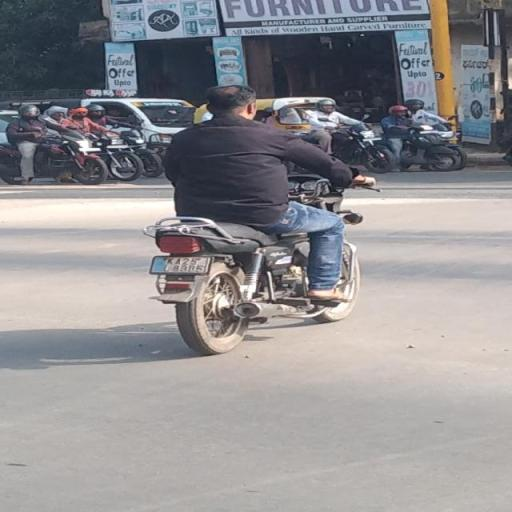bike: (142, 80, 384, 356)
numberplate: (150, 254, 212, 276)
withouthelmet: (206, 86, 256, 116)
